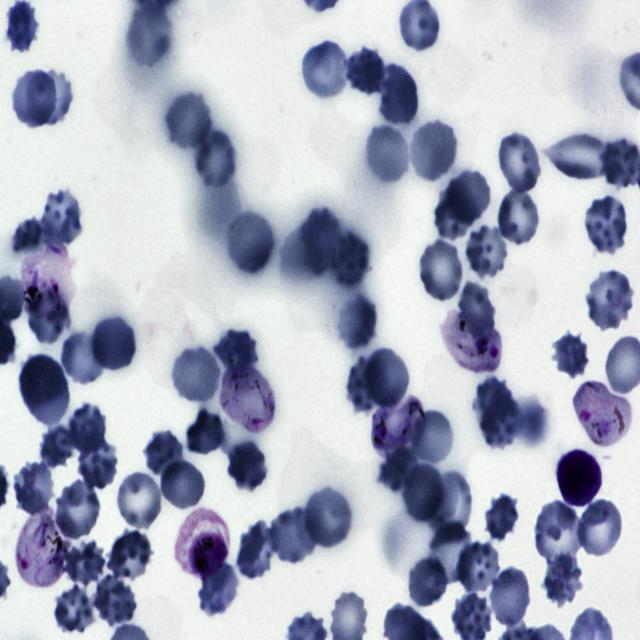gametocyte: (174, 508, 229, 578)
leukocyte: (554, 447, 605, 509)
red blood cell: (546, 128, 614, 182), (223, 209, 274, 277), (124, 1, 174, 70), (302, 484, 354, 550), (406, 118, 458, 184), (18, 354, 69, 421), (426, 470, 473, 542), (534, 500, 584, 567), (495, 128, 544, 196), (362, 122, 412, 188), (417, 237, 466, 304), (113, 468, 165, 531), (299, 40, 351, 102), (170, 344, 221, 407), (364, 344, 412, 410), (584, 268, 635, 330), (52, 479, 103, 541), (163, 90, 214, 152), (426, 522, 474, 586), (192, 125, 238, 191), (400, 461, 446, 526), (576, 498, 624, 560), (582, 195, 632, 254), (334, 288, 380, 352), (268, 506, 317, 566), (488, 566, 533, 630), (328, 227, 372, 292), (496, 185, 542, 247), (26, 284, 72, 346), (60, 330, 109, 388), (10, 70, 58, 129), (377, 65, 420, 128), (158, 457, 207, 512), (302, 207, 341, 276), (26, 68, 74, 124), (446, 166, 492, 224), (432, 184, 476, 243), (92, 315, 137, 372), (40, 188, 84, 246), (106, 531, 154, 584), (456, 541, 502, 596), (345, 354, 386, 415), (94, 576, 140, 630), (236, 523, 278, 581), (474, 378, 515, 437), (462, 225, 508, 277), (541, 553, 584, 608), (480, 392, 522, 448), (406, 556, 449, 610), (213, 328, 259, 378), (12, 462, 56, 514), (196, 564, 240, 616), (75, 440, 118, 492), (226, 440, 268, 493), (345, 45, 386, 98), (458, 283, 496, 340), (185, 408, 228, 458), (413, 410, 453, 463), (52, 586, 96, 634), (143, 430, 184, 481), (65, 538, 107, 587), (550, 330, 590, 380), (214, 326, 262, 367), (5, 0, 40, 56), (376, 444, 418, 490), (70, 403, 108, 453), (39, 422, 78, 470), (484, 491, 518, 543), (64, 536, 101, 578), (12, 218, 47, 260)
ring: (223, 361, 274, 437)
trophozoite: (16, 506, 70, 591), (19, 242, 75, 322), (440, 307, 501, 374), (572, 381, 632, 449), (369, 393, 425, 462)
